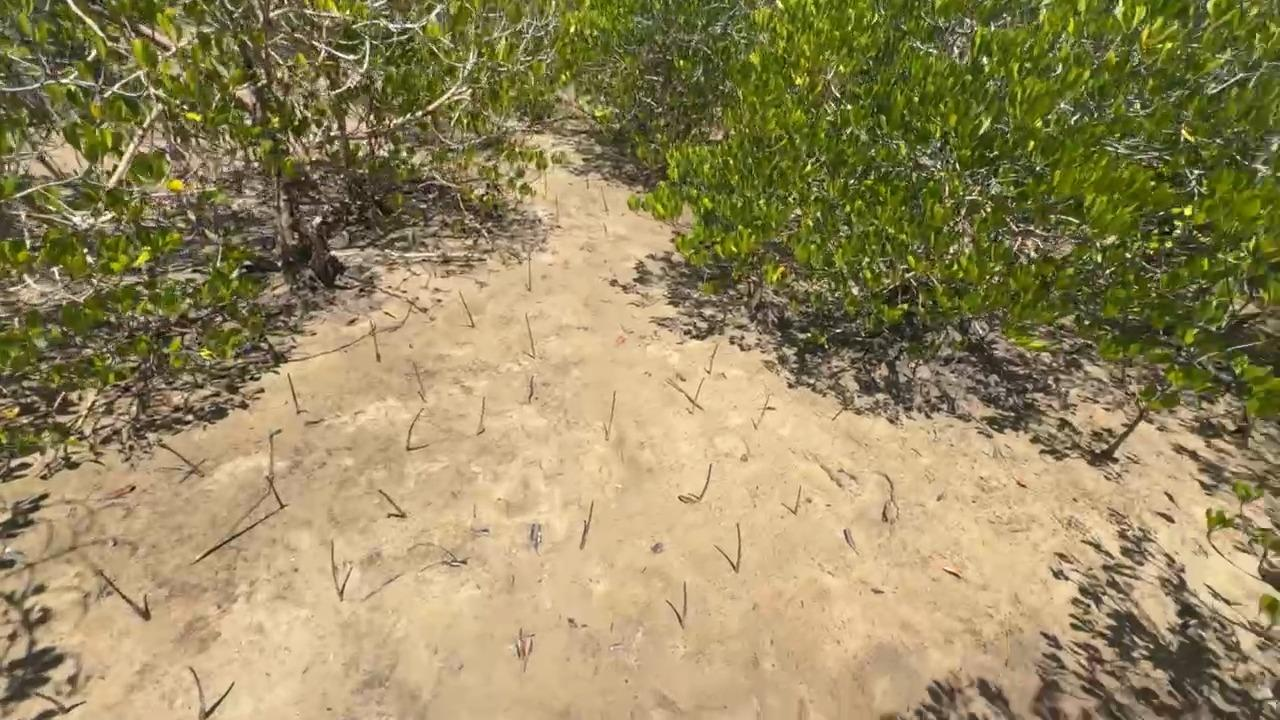Tree: (99, 570, 150, 621), (265, 428, 285, 508), (159, 443, 204, 477), (188, 666, 206, 720), (330, 539, 344, 602), (406, 407, 425, 450), (377, 489, 406, 516), (34, 692, 67, 714), (580, 500, 594, 550), (604, 390, 617, 441), (754, 394, 771, 430), (459, 289, 475, 327), (413, 362, 427, 403), (287, 373, 300, 413), (692, 377, 705, 415), (699, 463, 712, 500), (369, 320, 380, 363), (525, 312, 535, 358), (476, 396, 486, 436), (708, 342, 719, 375), (735, 522, 742, 573), (681, 581, 687, 628), (794, 485, 802, 516), (601, 186, 609, 212), (528, 375, 534, 404), (528, 250, 532, 292), (832, 407, 844, 420), (544, 171, 548, 200), (555, 195, 559, 224), (586, 179, 589, 189)
